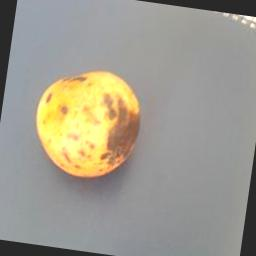Mango Rotten: (26, 56, 154, 190)
